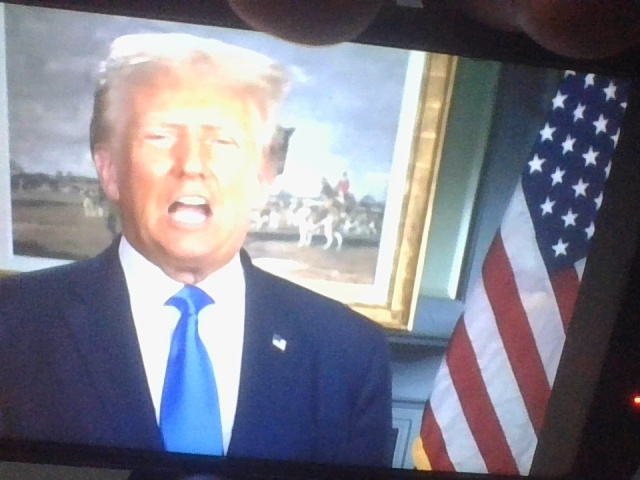fake: (106, 14, 287, 270)
